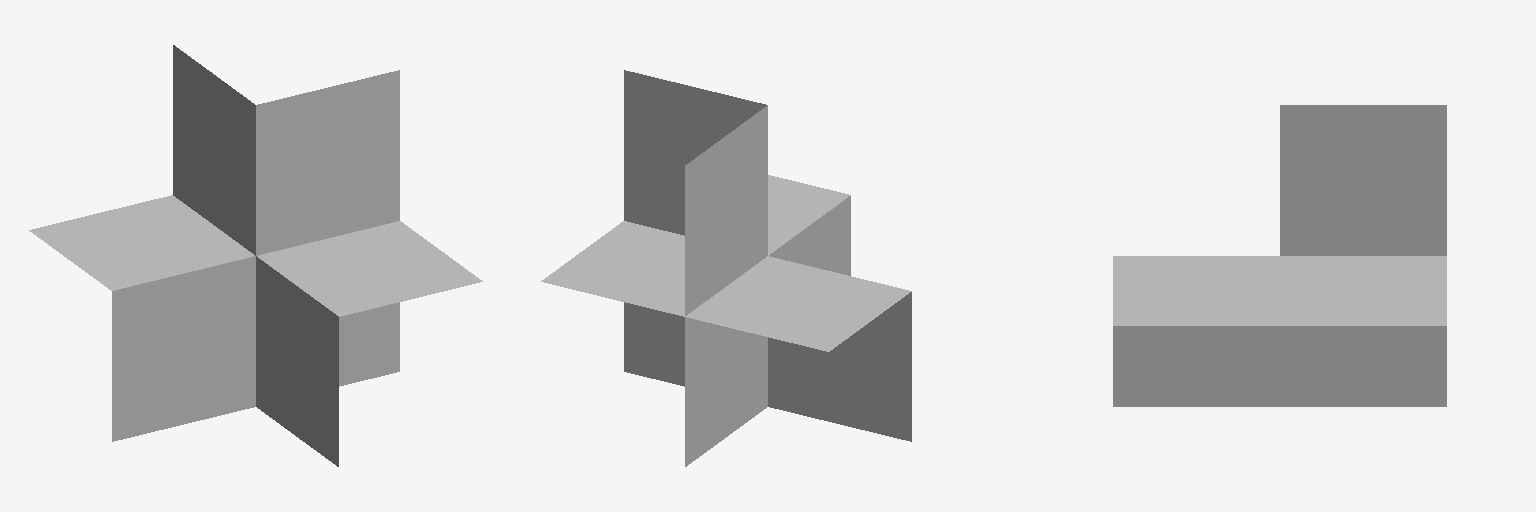
3 views of the same model, side by side, from view 1: azimuth 30°, elevation 25°; view 2: azimuth 150°, elevation 25°; view 3: azimuth 270°, elevation 25° (orthographic).
Parts seen in each view (by area): view 1: 0001_1010_立方体.097; view 2: 0001_1010_立方体.097; view 3: 0001_1010_立方体.097.
Boxes of the visible parts, x1,y1,x2,y2 form: 0001_1010_立方体.097: [29, 45, 482, 466]; 0001_1010_立方体.097: [541, 70, 911, 466]; 0001_1010_立方体.097: [1113, 105, 1446, 406].
Size of the model in its own units: 1 by 1 by 1.